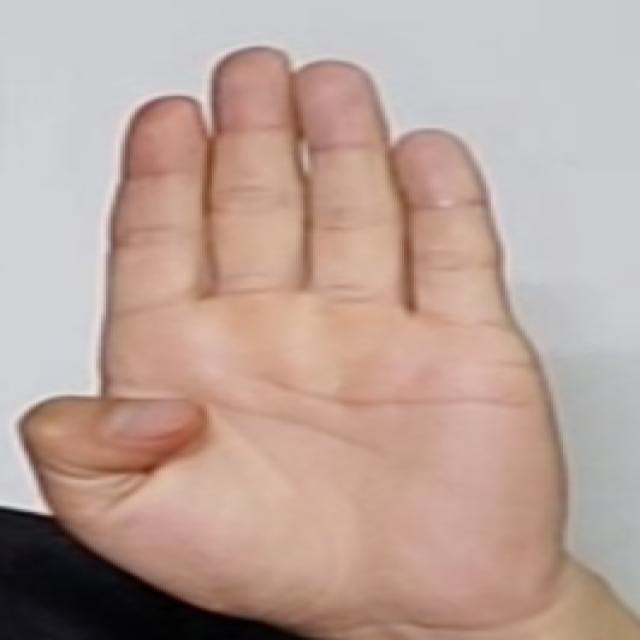B: (14, 38, 578, 625)
